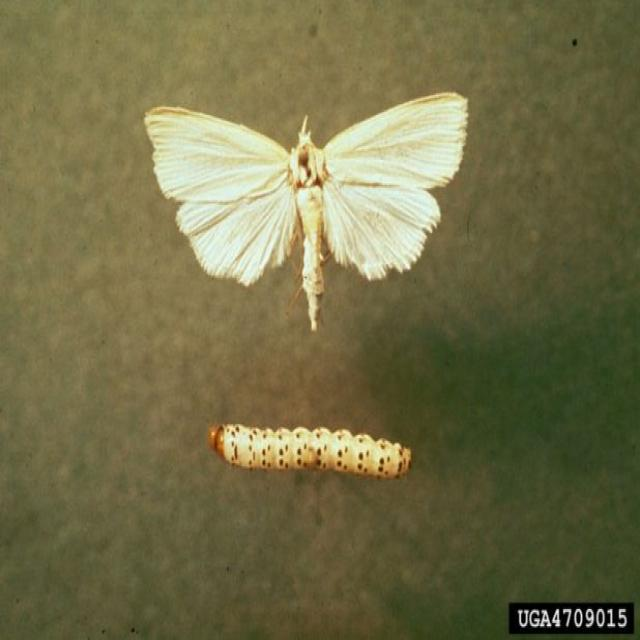cornborer-Larva-: (204, 403, 420, 494)
